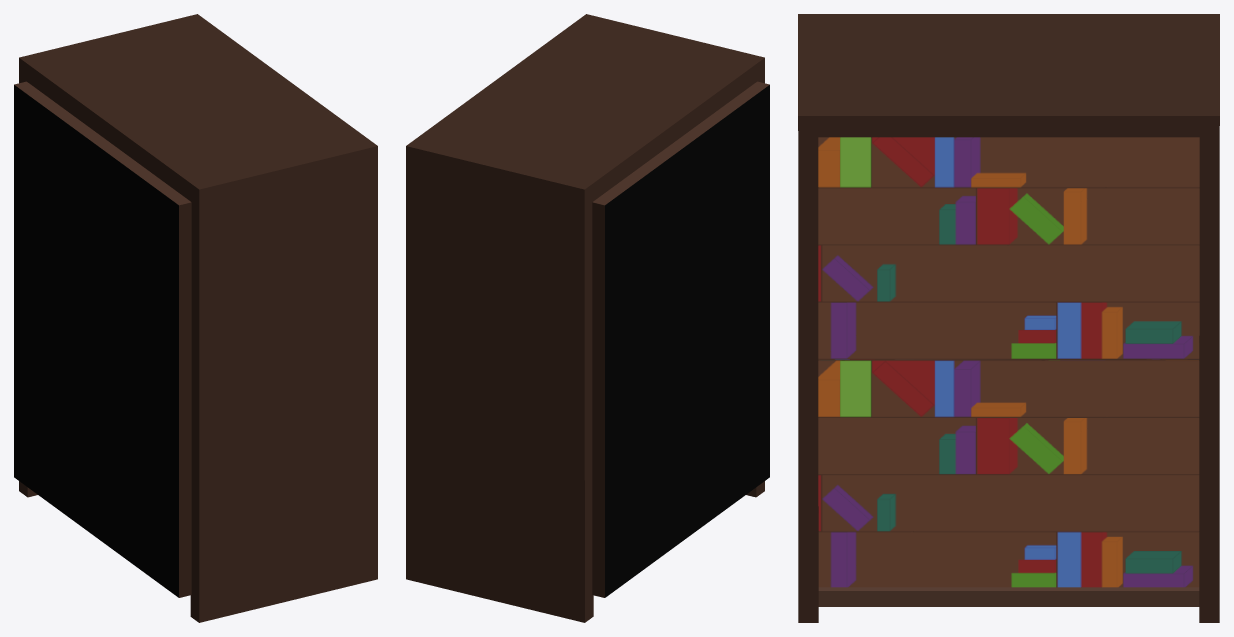
Rendered from ShelfLeft.dae.
3 renders of one model, left to right at view 1: azimuth 30°, elevation 25°; view 2: azimuth 150°, elevation 25°; view 3: azimuth 270°, elevation 25°, orthographic. The views are drawn at different scales.
Parts seen in each view (by area): view 1: ShelfLeft; view 2: ShelfLeft; view 3: ShelfLeft.
Part boxes in pixels (x1,y1,x2,y2): ShelfLeft: [14, 14, 377, 622]; ShelfLeft: [406, 14, 769, 622]; ShelfLeft: [798, 14, 1219, 622].
Size of the model in its own units: 2.14 by 3.5 by 4.64.
Materials: 1 (1 with a texture image).
